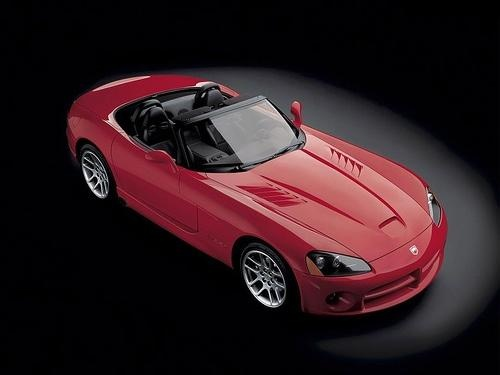car: (65, 70, 447, 322)
